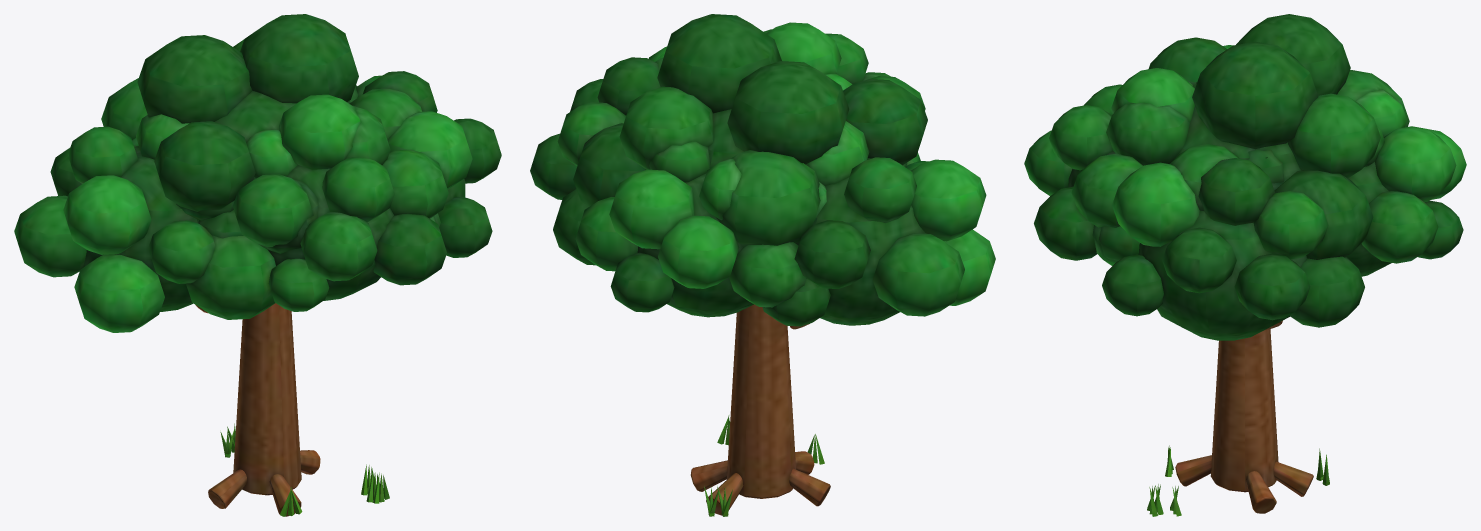
Rendered from breadfruit_tree.glb.
3 views of the same model, side by side, from view 1: azimuth 30°, elevation 25°; view 2: azimuth 150°, elevation 25°; view 3: azimuth 270°, elevation 25° (orthographic). The views are drawn at different scales.
Visible parts, largest first — view 1: crown, breadfruit_tree; view 2: crown, breadfruit_tree; view 3: crown, breadfruit_tree.
Boxes of the visible parts, x1=… form: crown: x1=14, y1=14, x2=501, y2=332; breadfruit_tree: x1=195, y1=303, x2=389, y2=516; crown: x1=530, y1=14, x2=995, y2=326; breadfruit_tree: x1=690, y1=304, x2=830, y2=516; crown: x1=1024, y1=14, x2=1466, y2=340; breadfruit_tree: x1=1147, y1=320, x2=1329, y2=516.
Size of the model in its own units: 1.42 by 1.45 by 1.27.
Materials: 1 (1 with a texture image).
